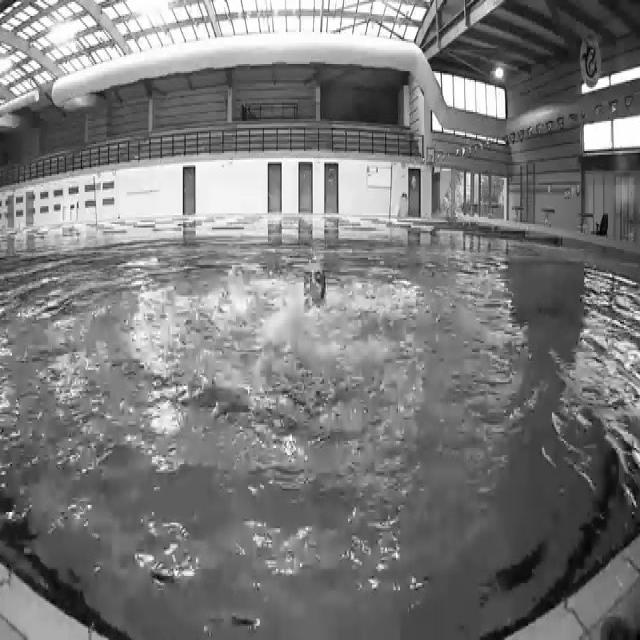Swimming: (276, 254, 356, 367)
